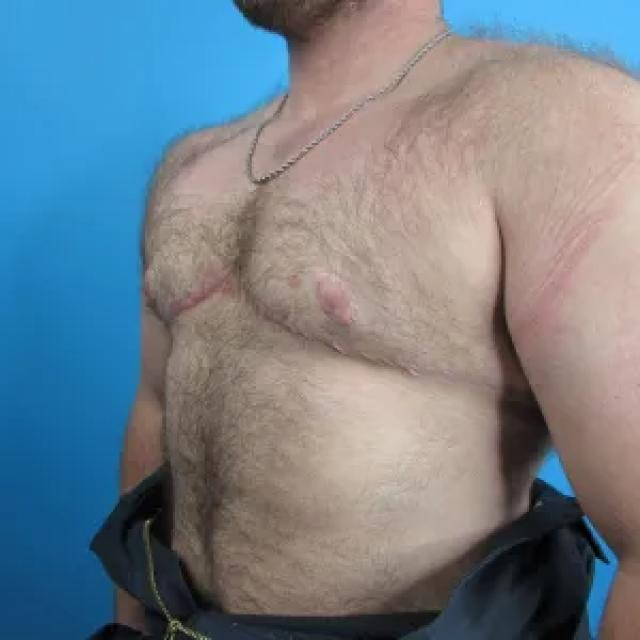Seno herido: (244, 214, 535, 410), (136, 202, 238, 338)
